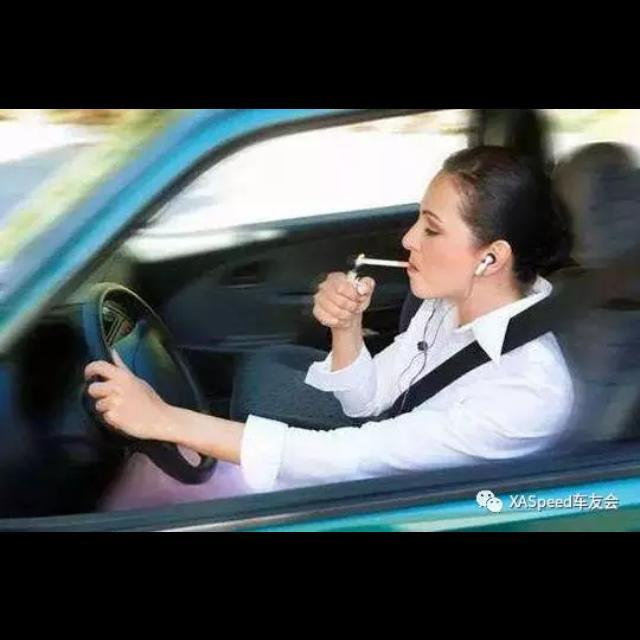rokok: (355, 251, 411, 275)
